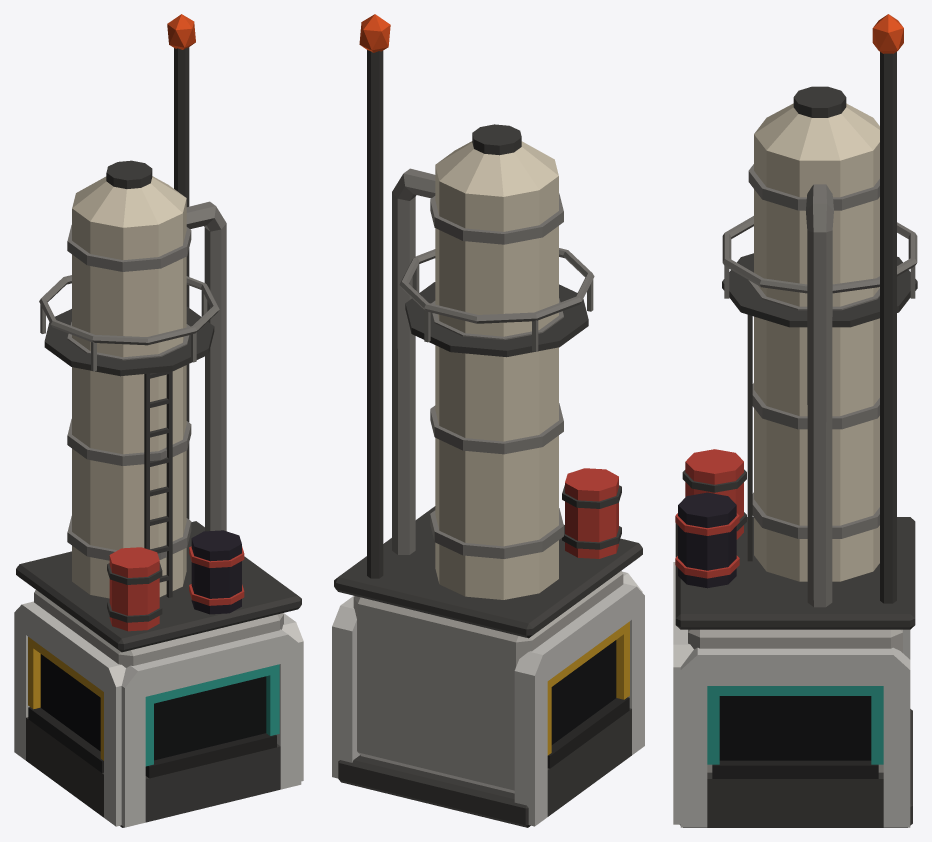
Rendered from refinery.fbx.
3 renders of one model, left to right at view 1: azimuth 30°, elevation 25°; view 2: azimuth 150°, elevation 25°; view 3: azimuth 270°, elevation 25°, orthographic. The views are drawn at different scales.
Parts seen in each view (by area): view 1: refinery; view 2: refinery; view 3: refinery.
Boxes of the visible parts, box(x1,y1,x2,y2) form: refinery: box(14, 14, 303, 827); refinery: box(332, 14, 644, 827); refinery: box(673, 14, 917, 827).
Size of the model in its own units: 3.06 by 10.85 by 3.
